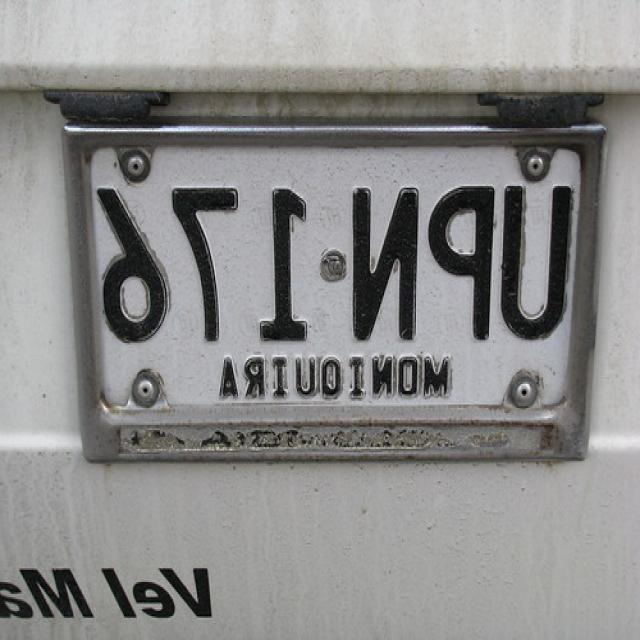placas: (72, 141, 585, 355)
